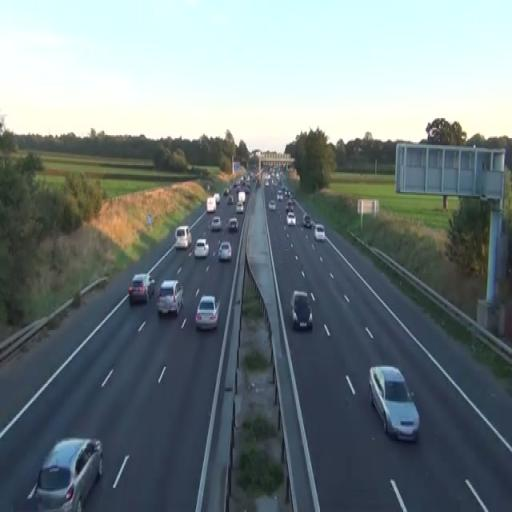Car: (36, 436, 104, 511), (369, 366, 420, 442), (156, 279, 184, 318), (290, 290, 313, 330), (195, 296, 220, 331), (128, 274, 151, 304), (174, 225, 192, 250), (194, 238, 209, 258), (218, 241, 232, 262), (314, 224, 325, 242), (210, 216, 222, 231), (228, 217, 238, 232)
